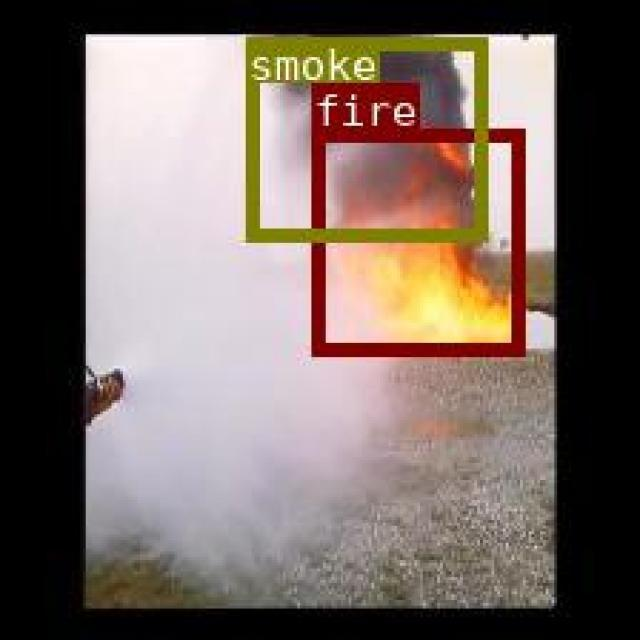fire: (311, 128, 520, 352)
smoke: (244, 36, 485, 240)
